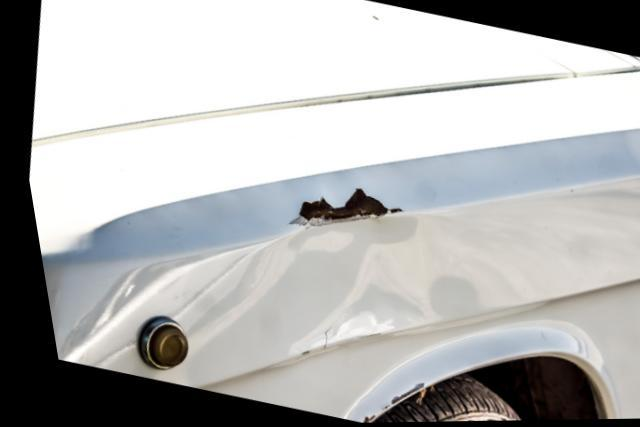crack: (277, 182, 406, 238)
dent: (236, 211, 517, 360)
